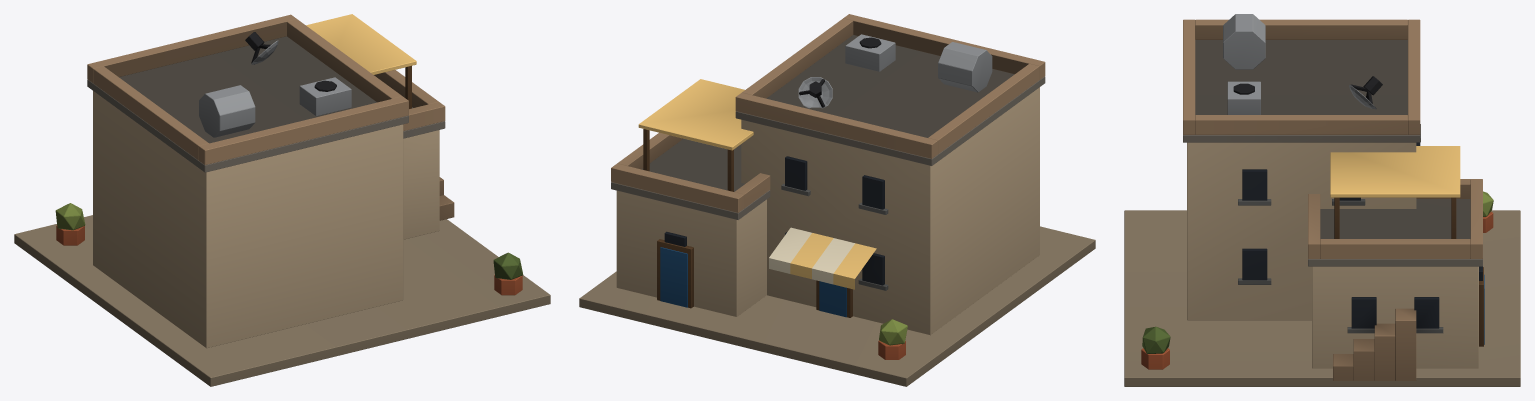
File: house_a.glb
The picture shows the model from 3 angles, left to right: view 1: azimuth 30°, elevation 25°; view 2: azimuth 150°, elevation 25°; view 3: azimuth 270°, elevation 25°; orthographic projection. The views are drawn at different scales.
Parts seen in each view (by area): view 1: house_a; view 2: house_a; view 3: house_a.
Part boxes in pixels (box(x1,y1,x2,y2)): house_a: box(14, 14, 550, 386); house_a: box(579, 14, 1095, 386); house_a: box(1124, 14, 1520, 386).
Size of the model in its own units: 1.94 by 1.24 by 1.9.
